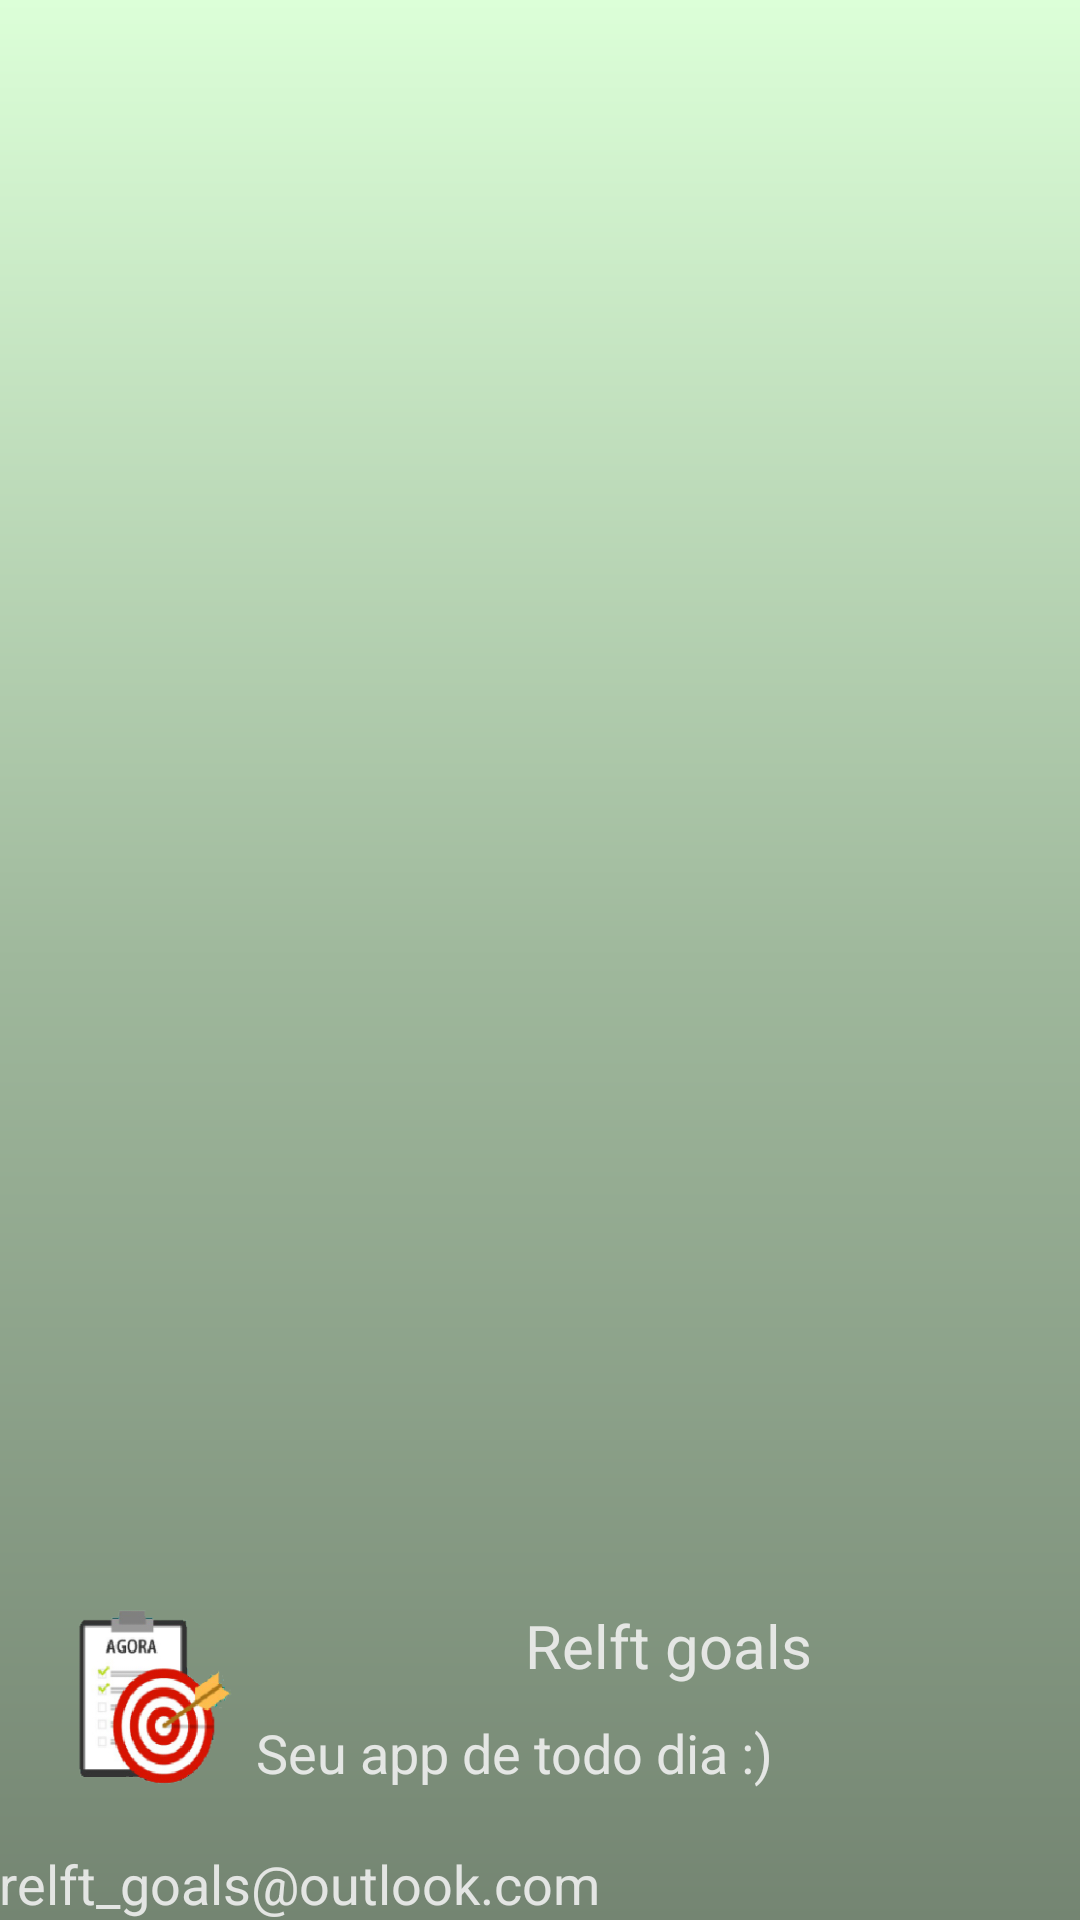

Named icons in this screenshot (1080px x 1920px) and their bounding boxes, [x1=x1, y1=y1, x2=x2, y2=y2]:
alvo tela incial: [x1=79, y1=1612, x2=230, y2=1783]
